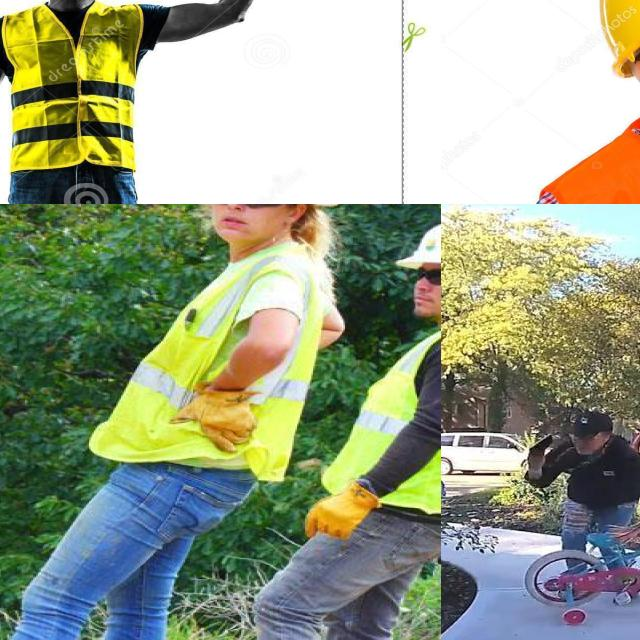No_Ear-Protection: (628, 57, 640, 96), (604, 428, 614, 444)
face_nomask: (196, 204, 297, 249), (391, 264, 441, 327), (574, 440, 604, 457)
glasses: (408, 260, 441, 288), (202, 204, 287, 212)
hand_glove: (168, 377, 274, 459), (308, 480, 387, 549)
head_helmet: (404, 217, 441, 275)
person: (102, 204, 326, 640), (0, 0, 315, 204), (334, 213, 441, 640), (495, 0, 640, 204), (513, 395, 640, 614)
vest: (135, 247, 309, 464), (0, 2, 161, 179), (335, 323, 441, 523)
